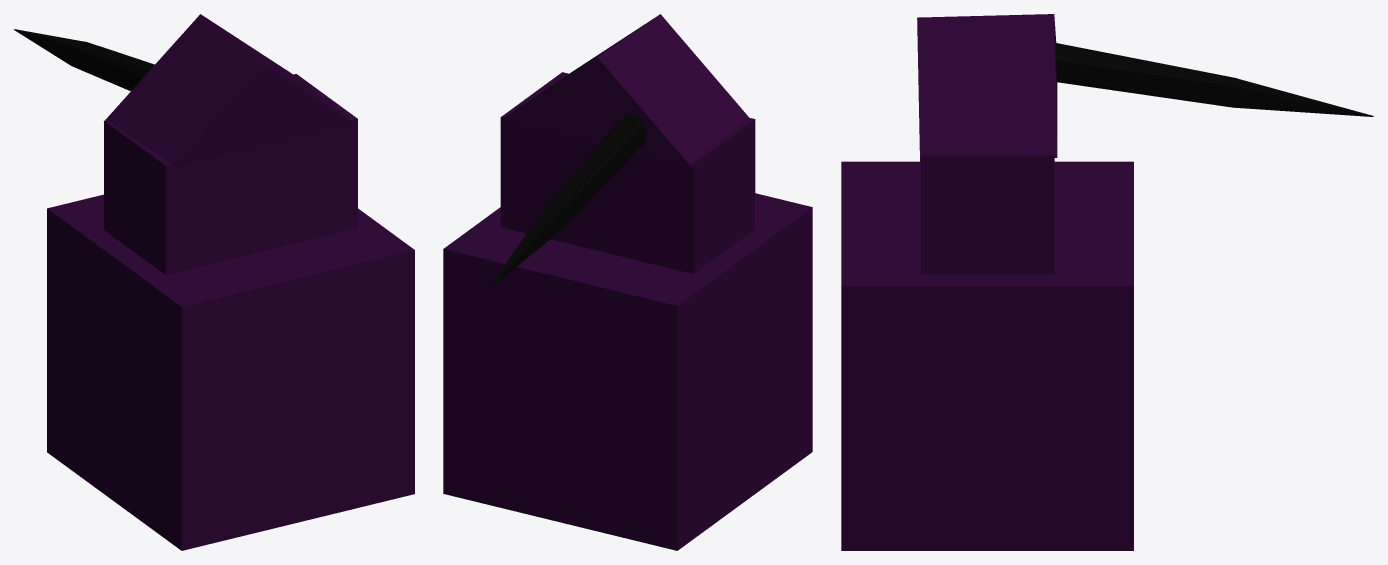
The model's file is protectiontower1_6 1.fbx.
The picture shows the model from 3 angles, left to right: view 1: azimuth 30°, elevation 25°; view 2: azimuth 150°, elevation 25°; view 3: azimuth 270°, elevation 25°; orthographic projection. The views are drawn at different scales.
Parts seen in each view (by area): view 1: Tower, Cannon; view 2: Tower, Cannon; view 3: Tower, Cannon.
Boxes of the visible parts, bbox=[...] form: Tower: bbox=[47, 14, 414, 550]; Cannon: bbox=[14, 29, 154, 91]; Tower: bbox=[443, 14, 812, 550]; Cannon: bbox=[489, 113, 646, 288]; Tower: bbox=[841, 14, 1133, 550]; Cannon: bbox=[1056, 43, 1373, 116].
Bounding box in the file's own units: 765 × 1370 × 1392.
